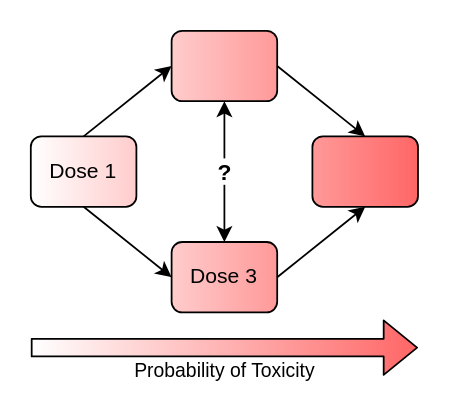
Image size: 449x414. Some labels were removed from this diagram. Each missing label, with the centre of its shape:
Dose 2: the point at 223,65
Dose 4: the point at 364,171
